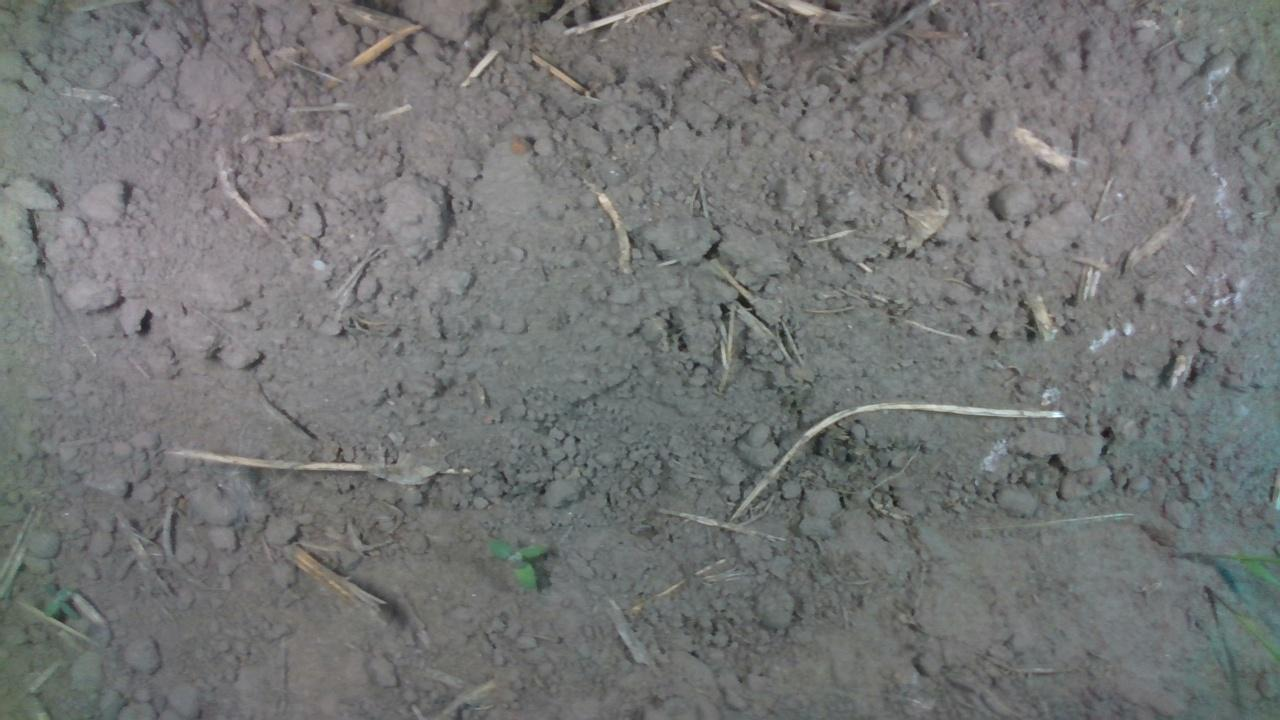weed: (483, 534, 551, 592)
